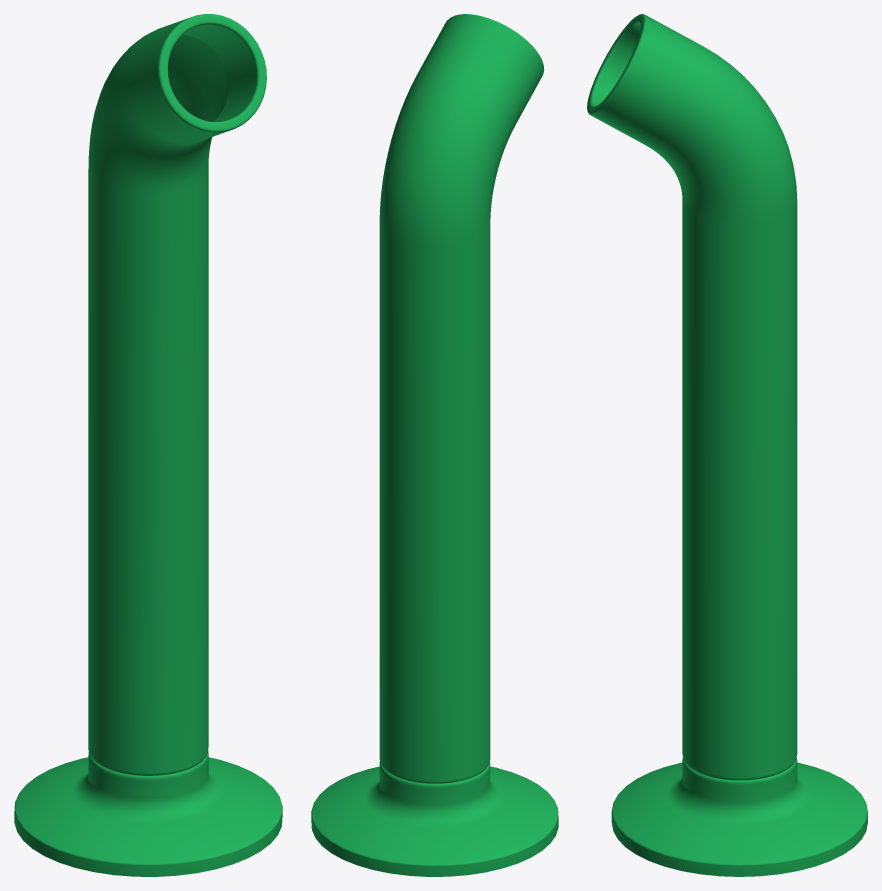
File: Bath_Spout_01.obj
3 renders of one model, left to right at view 1: azimuth 30°, elevation 25°; view 2: azimuth 150°, elevation 25°; view 3: azimuth 270°, elevation 25°, orthographic. The views are drawn at different scales.
Parts seen in each view (by area): view 1: Bath_Spout_01; view 2: Bath_Spout_01; view 3: Bath_Spout_01.
Boxes of the visible parts, x1=… form: Bath_Spout_01: x1=14, y1=14, x2=282, y2=876; Bath_Spout_01: x1=311, y1=14, x2=558, y2=876; Bath_Spout_01: x1=587, y1=14, x2=867, y2=876.
Bounding box in the file's own units: 2.64 × 9.12 × 2.89.
